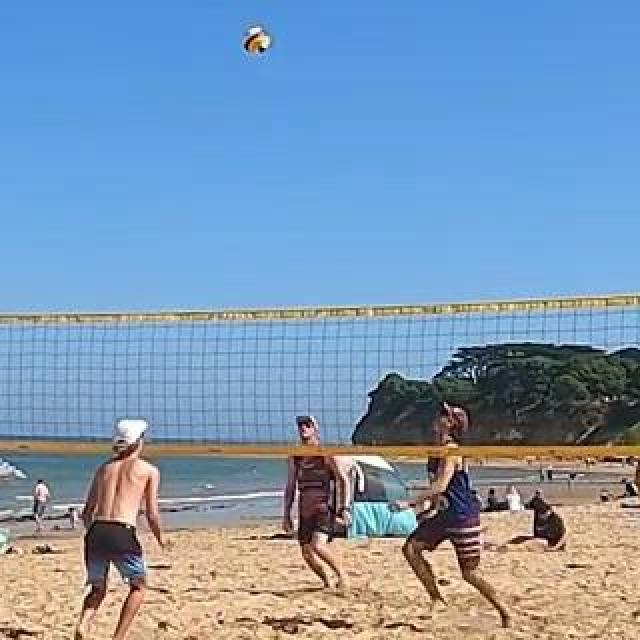volleyball: (242, 28, 270, 54)
